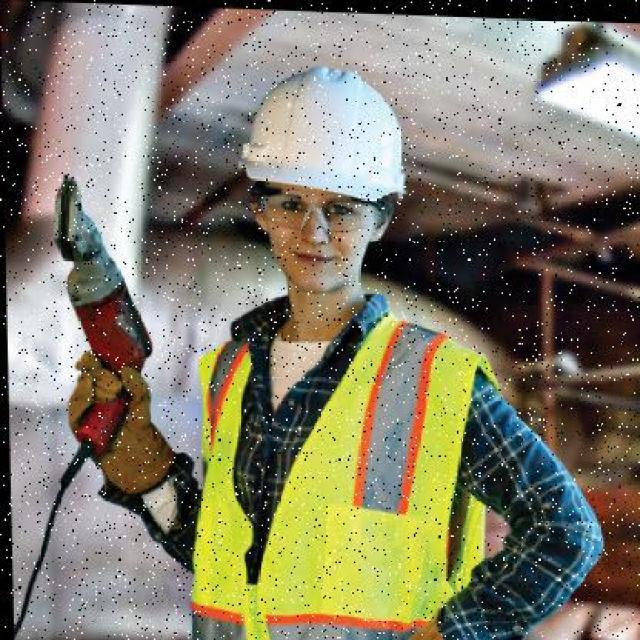helmet: (233, 62, 420, 218)
vest: (179, 302, 499, 639)
